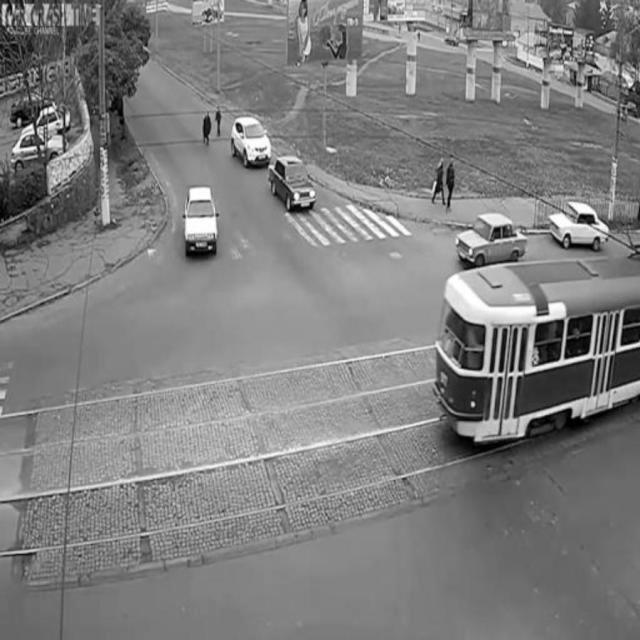person: (433, 150, 448, 214), (444, 155, 459, 211), (214, 98, 224, 152), (202, 104, 212, 146)
vehicle: (440, 254, 626, 444), (455, 217, 526, 272), (266, 152, 320, 216), (181, 181, 217, 264), (554, 201, 609, 249), (11, 121, 67, 168), (230, 117, 271, 163)
